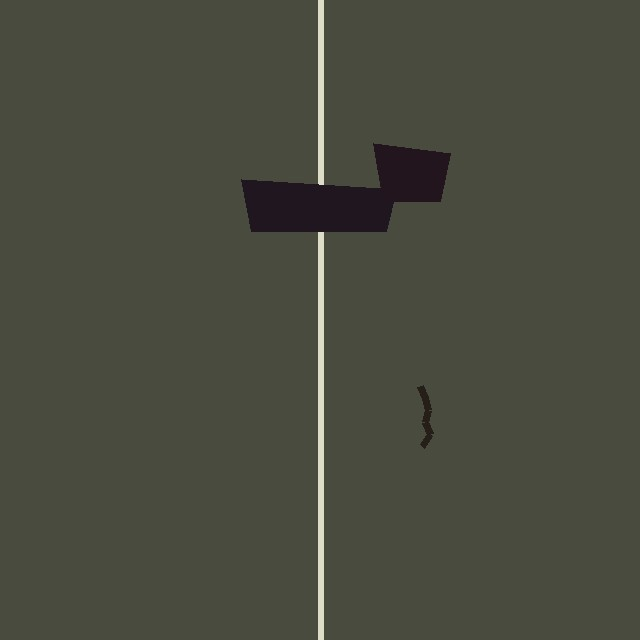damaged_surface: (241, 179, 396, 231), (373, 143, 450, 201)
longitudinal_crack: (425, 386, 565, 449)
